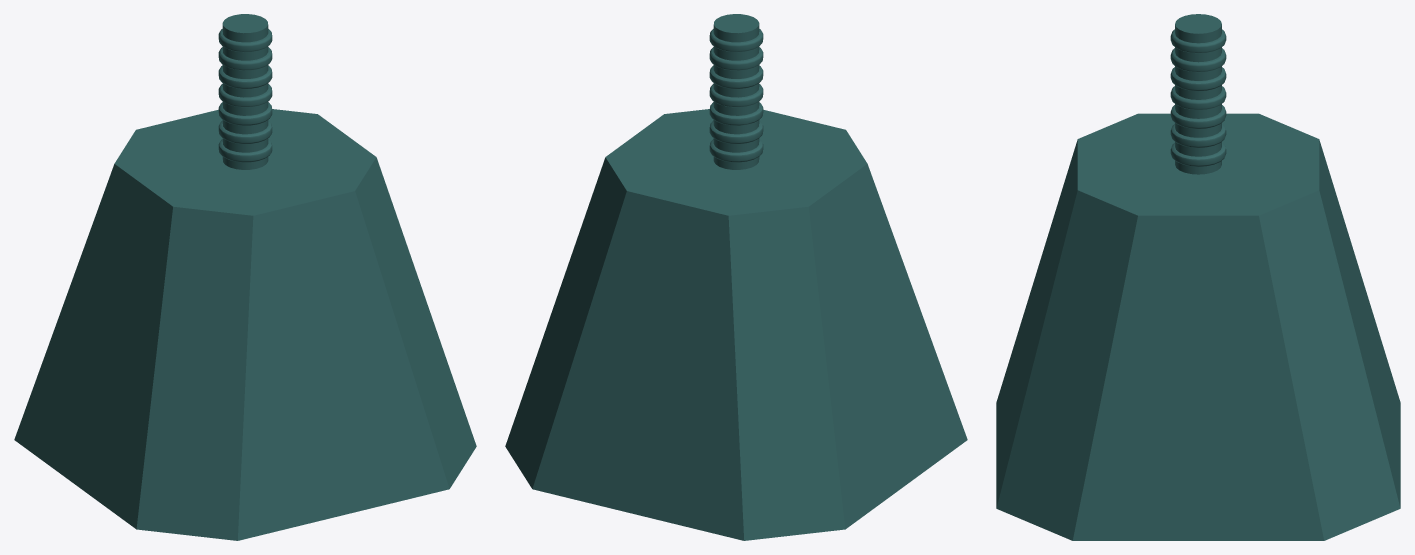
Rendered from plasma low.fbx.
The picture shows the model from 3 angles, left to right: view 1: azimuth 30°, elevation 25°; view 2: azimuth 150°, elevation 25°; view 3: azimuth 270°, elevation 25°; orthographic projection. The views are drawn at different scales.
Parts seen in each view (by area): view 1: plasma_02_low, plasma_01_low; view 2: plasma_02_low, plasma_01_low; view 3: plasma_02_low, plasma_01_low.
Part boxes in pixels (x1,y1,x2,y2): plasma_02_low: (14, 109, 476, 540); plasma_01_low: (218, 14, 272, 169); plasma_02_low: (505, 109, 967, 540); plasma_01_low: (709, 14, 763, 169); plasma_02_low: (996, 113, 1400, 540); plasma_01_low: (1170, 14, 1226, 174).
Bounding box in the file's own units: 15.37 × 18.12 × 15.37.
